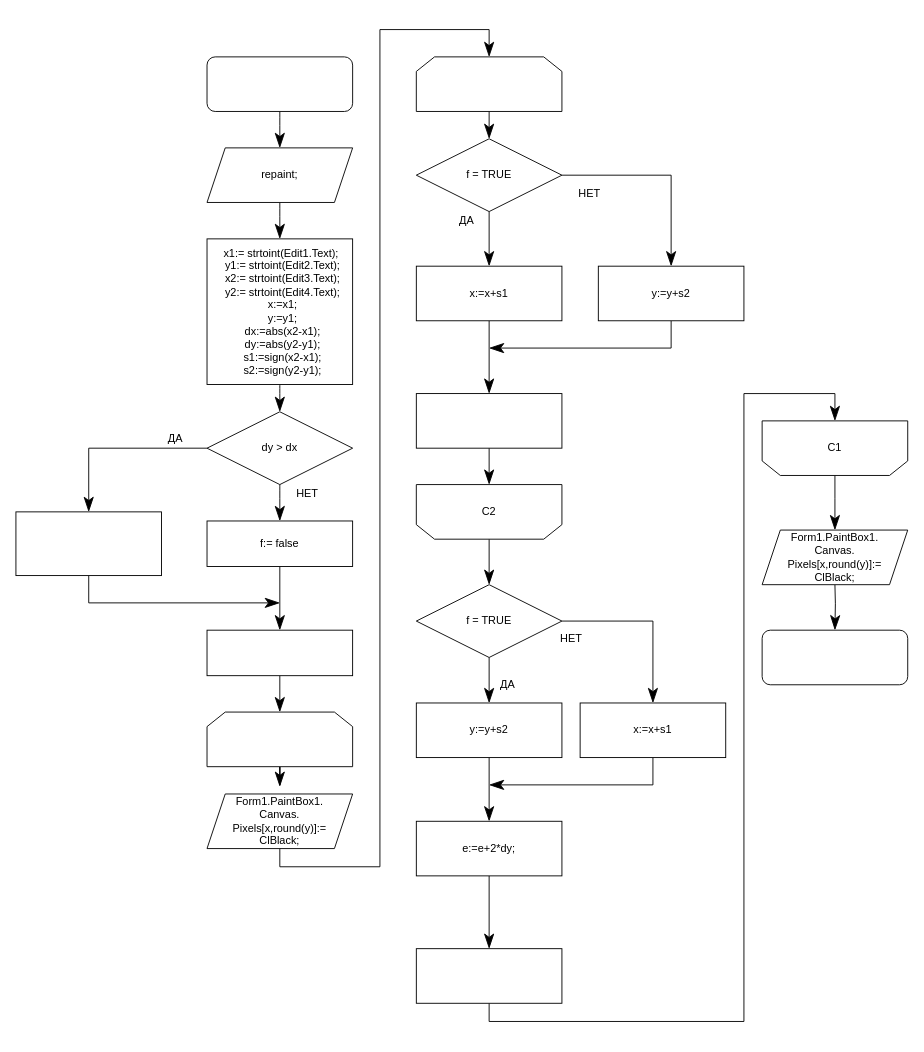
The diagram is 924 pixels wide and 1052 high, and some of its shapes have lost their labels. The shapes that lost their labels are listed below. From the top down, each one's centre as x and y in pixels, then its label:
the point at 279,83: TForm1.Button1Click НАЧАЛО
the point at 488,83: С2 e<0
the point at 488,420: e:=e-2*dx;
the point at 88,543: temp:=dx; dx:=dy; dy:=temp; f:=true;
the point at 279,652: e:=2*dy-dx; i:=1
the point at 834,657: КОНЕЦ TForm1.Button1Click
the point at 279,739: С1 х > dx
the point at 488,975: Inc(i)
